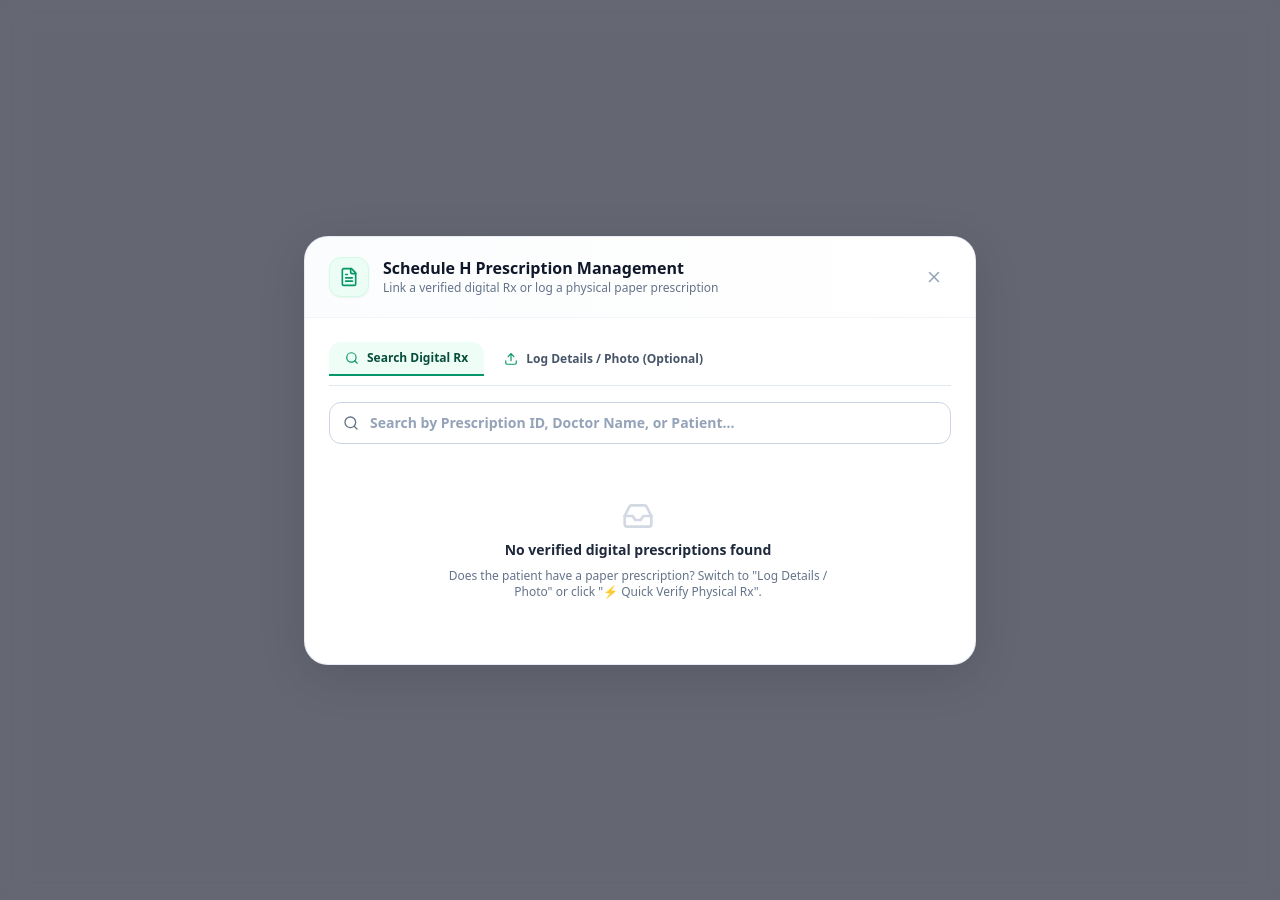
Test case: logging a paper prescription without a patient selected › shows the form instead of refusing, when nobody is selected
Click the button "Log Details / Photo (Optional)".
click(604, 358)  # box x1=488 y1=342 x2=719 y2=376
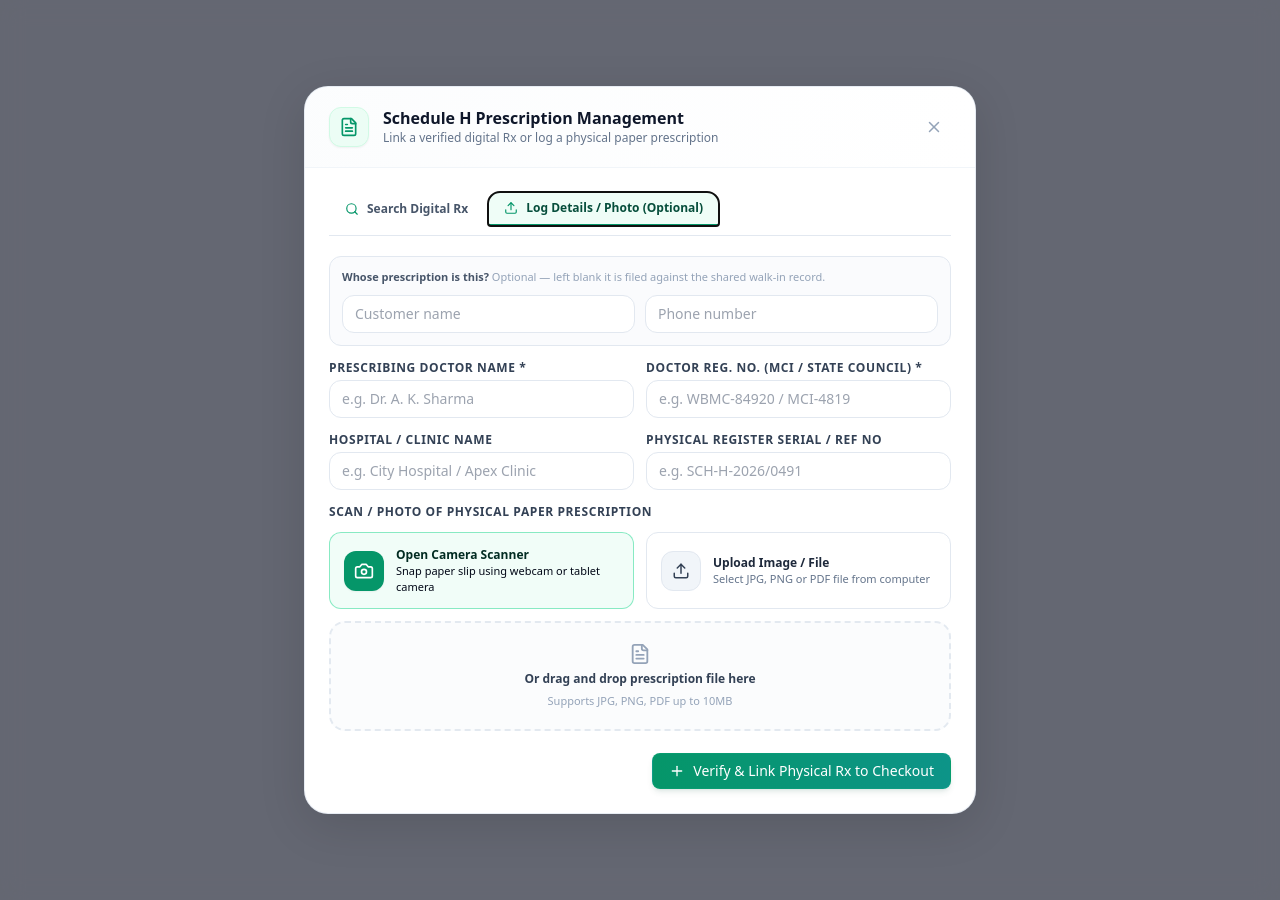
Result: the field with placeholder "e.g. Dr. A. K. Sharma" is shown at x1=329 y1=380 x2=634 y2=418
